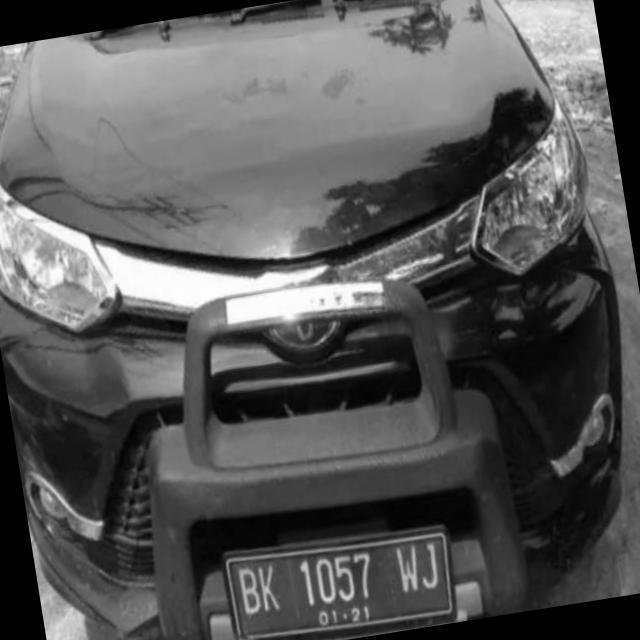0: (316, 556, 337, 605)
1: (298, 556, 320, 607)
5: (335, 552, 358, 602)
7: (354, 551, 374, 599)
B: (236, 568, 262, 616)
J: (258, 564, 288, 612), (418, 544, 444, 590)
W: (394, 544, 420, 593)
